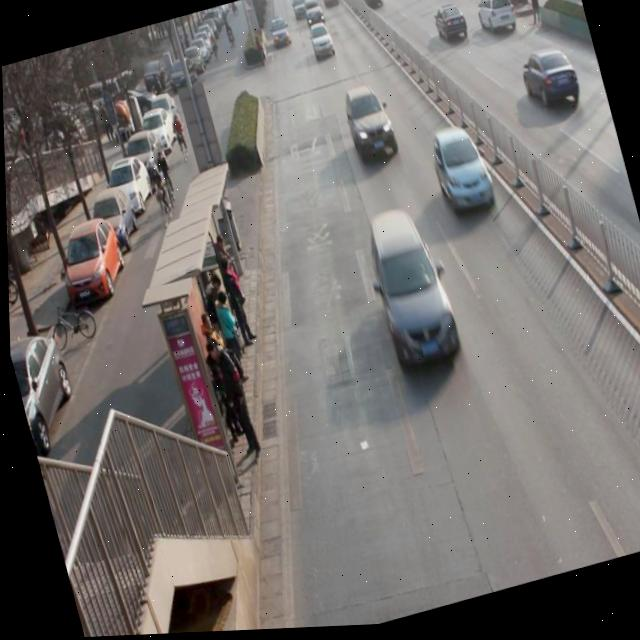car: (359, 210, 465, 384), (426, 128, 503, 231), (519, 48, 584, 127), (340, 87, 398, 165), (474, 0, 520, 47), (433, 8, 470, 51), (306, 25, 338, 67), (268, 21, 294, 56), (304, 0, 324, 32), (290, 0, 312, 28), (357, 0, 386, 19), (319, 0, 341, 14), (373, 0, 397, 5)
